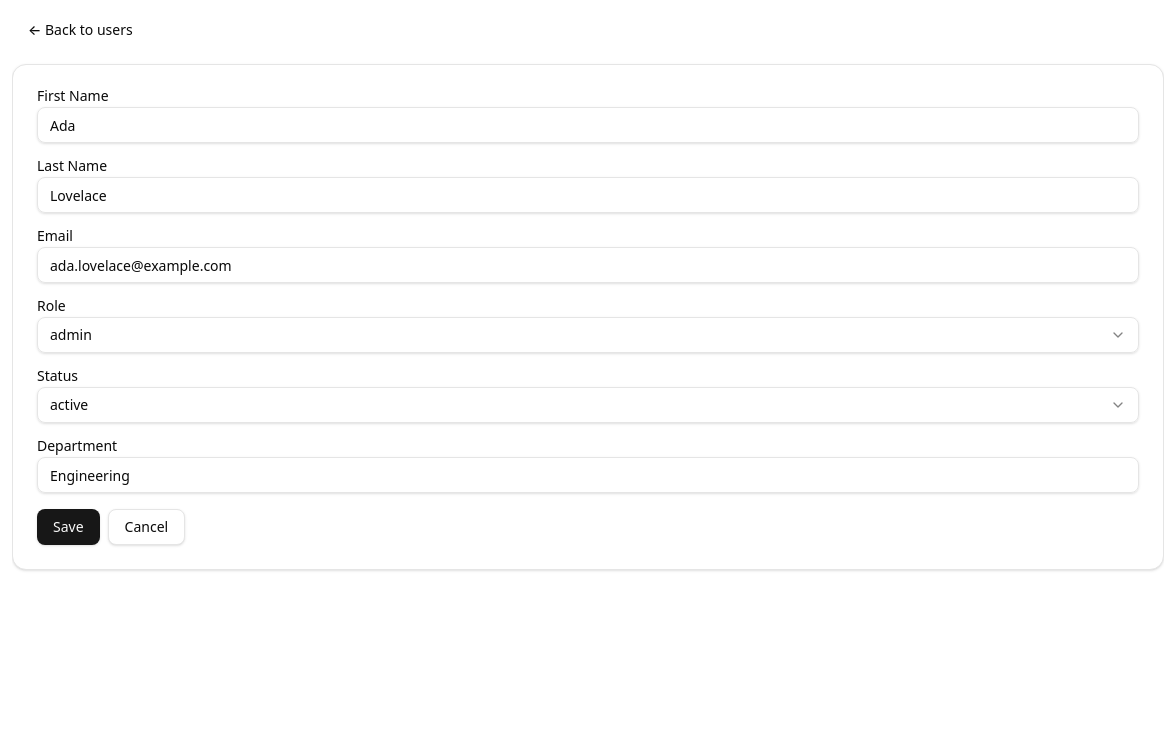
UserDetailView › renders role and status as selects offering the given options
expect the dropdown named "Status" reads "active": met, box [37, 387, 1139, 423]
Click the dropdown named "Role" at (71, 334), box [37, 317, 1139, 353]
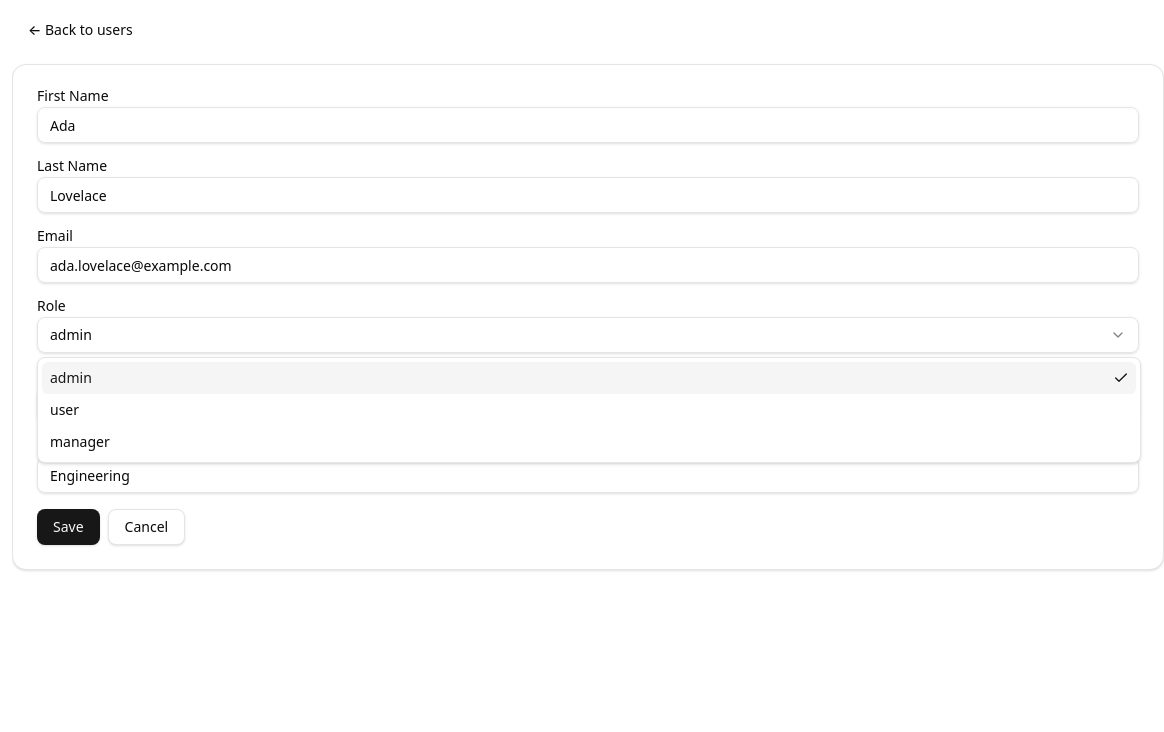
Click the option "manager" at (80, 442), box [50, 432, 110, 451]
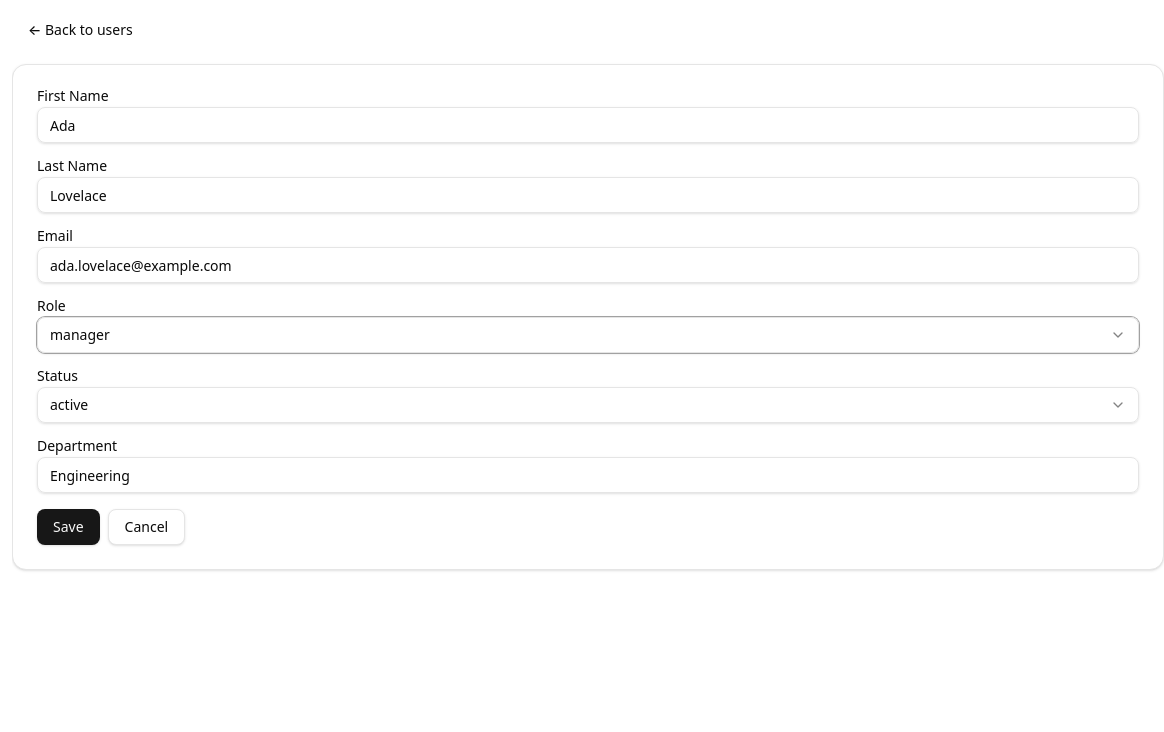
expect the dropdown named "Role" reads "manager": met, box [37, 317, 1139, 353]
expect the text "manager" is shown: met, box [50, 325, 110, 345]
